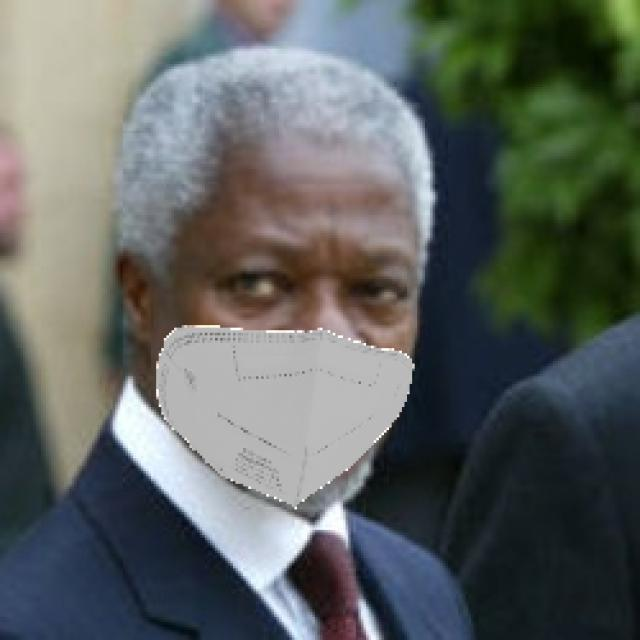mask: (132, 312, 437, 525)
